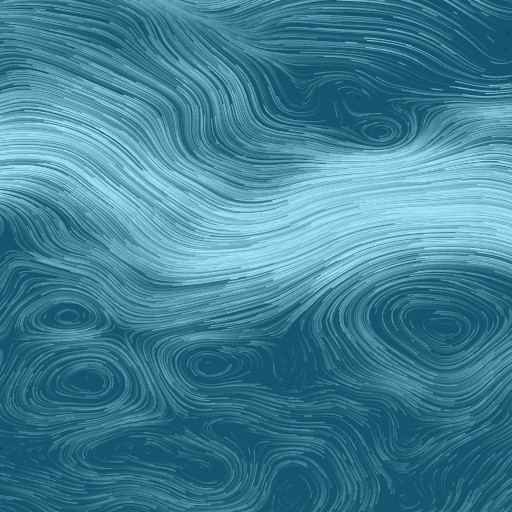eddy: (371, 273, 509, 389), (73, 427, 234, 496), (33, 340, 138, 423), (171, 340, 261, 392), (30, 293, 108, 337), (363, 120, 400, 142)
